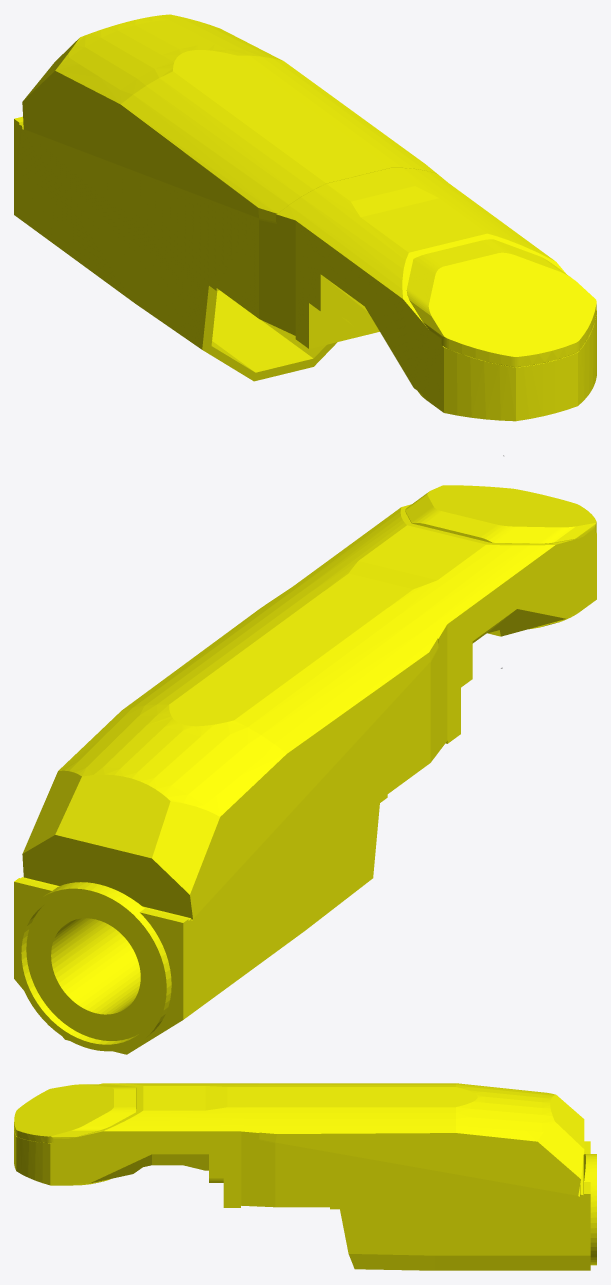
3 renders of one model, top to bottom at view 1: azimuth 30°, elevation 25°; view 2: azimuth 150°, elevation 25°; view 3: azimuth 270°, elevation 25°, orthographic. The views are drawn at different scales.
Visible parts, largest first — view 1: node; view 2: node; view 3: node.
Part boxes in pixels (<box>): node: <box>14,14,596,456</box>; node: <box>14,485,596,1054</box>; node: <box>14,1083,596,1270</box>.
Bounding box in the file's own units: 110 × 160 × 512.
